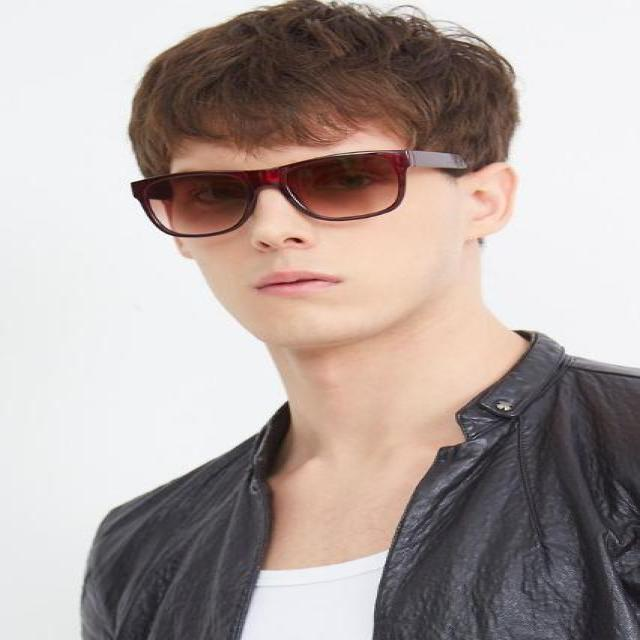2_gafas: (131, 152, 452, 240)
